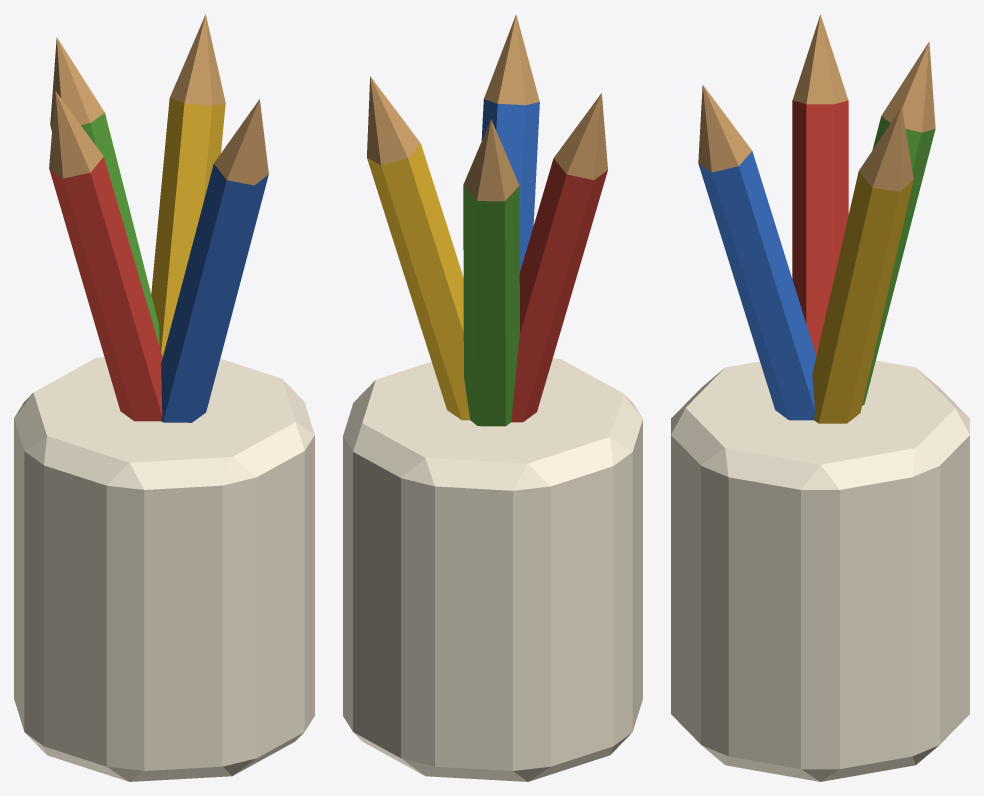
The model's file is pencil_cup.glb.
The picture shows the model from 3 angles, left to right: view 1: azimuth 30°, elevation 25°; view 2: azimuth 150°, elevation 25°; view 3: azimuth 270°, elevation 25°; orthographic projection.
Visible parts, largest first — view 1: pencil_cup; view 2: pencil_cup; view 3: pencil_cup.
Boxes of the visible parts, x1=… form: pencil_cup: x1=14, y1=14, x2=314, y2=781; pencil_cup: x1=343, y1=14, x2=642, y2=781; pencil_cup: x1=671, y1=14, x2=969, y2=781.
Size of the model in its own units: 0.0854 by 0.2075 by 0.0854.
